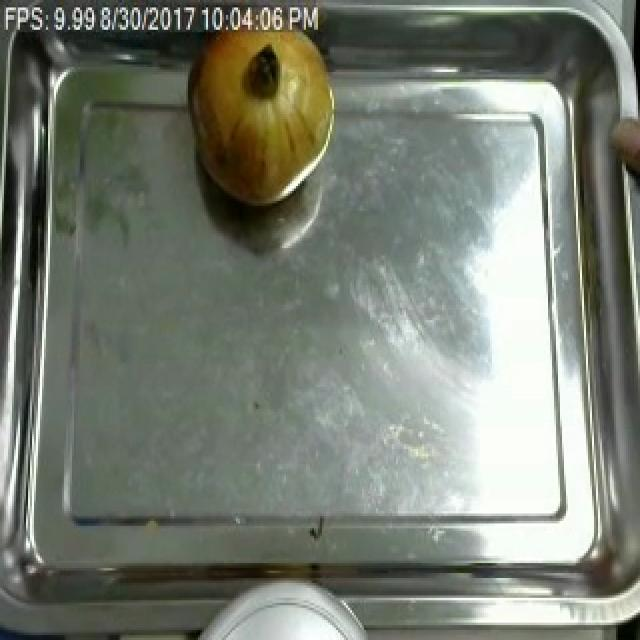fruit: (180, 7, 342, 216), (608, 99, 640, 194)
